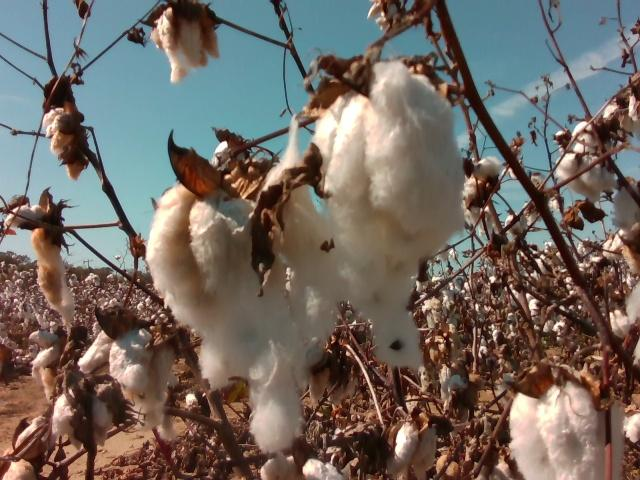cotton_ready: (146, 114, 340, 447), (314, 60, 470, 363), (79, 320, 174, 429), (509, 374, 606, 480), (8, 205, 76, 330), (150, 4, 222, 85), (555, 120, 617, 201), (51, 390, 116, 450), (383, 417, 440, 480), (0, 414, 52, 480), (41, 108, 88, 178), (29, 330, 64, 402), (259, 452, 347, 480), (460, 157, 501, 210), (610, 181, 640, 230), (609, 295, 640, 337), (210, 137, 251, 168), (612, 404, 640, 445), (366, 0, 401, 30)
